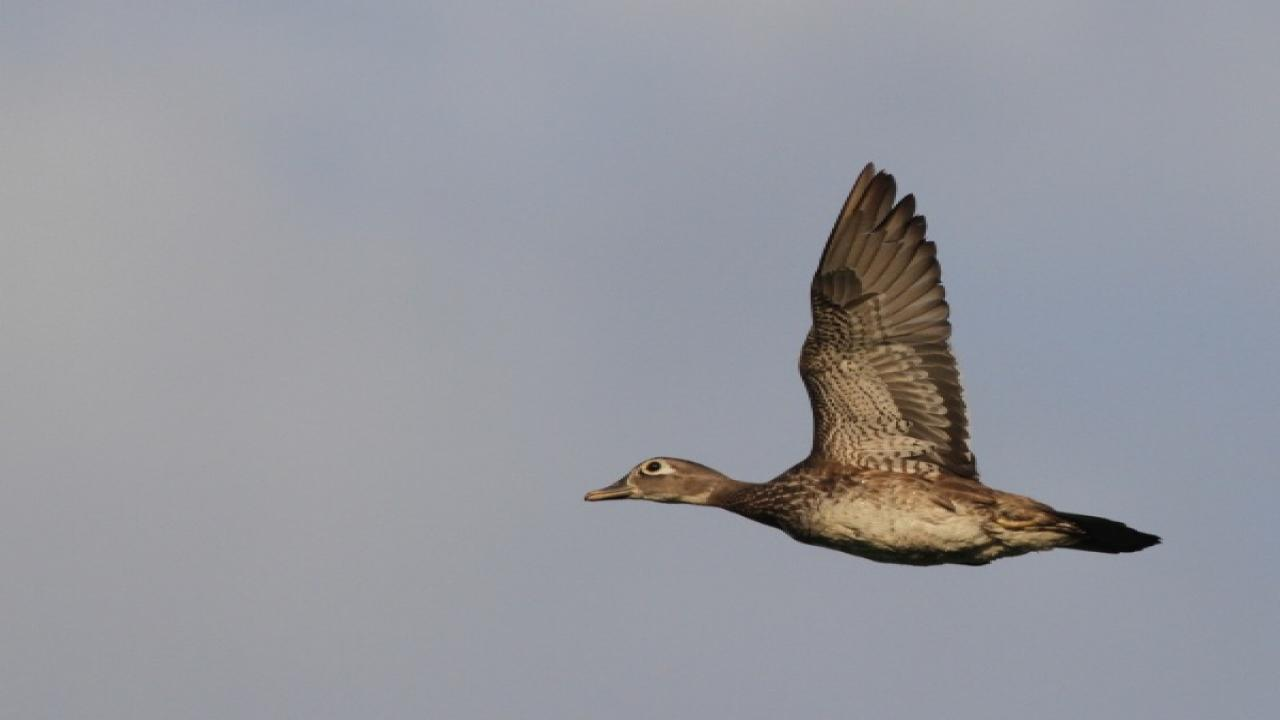Bird: (559, 151, 1175, 575)
